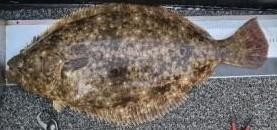fish: (0, 4, 270, 125)
